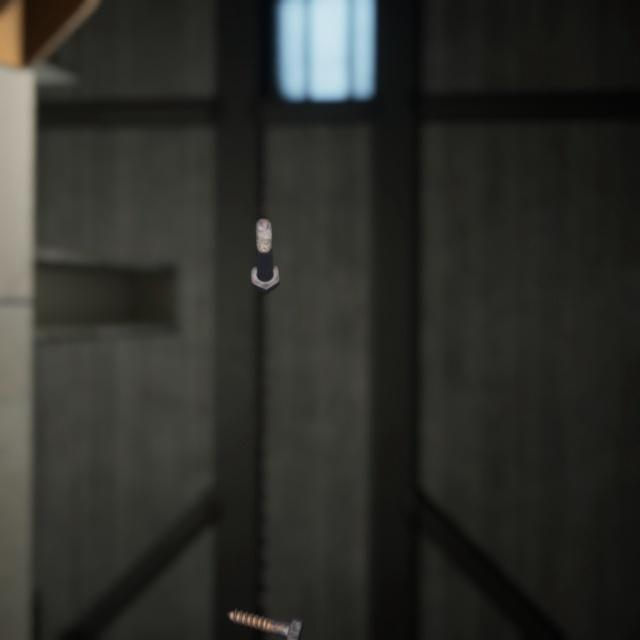bolt: (222, 579, 308, 627), (246, 196, 284, 281)
